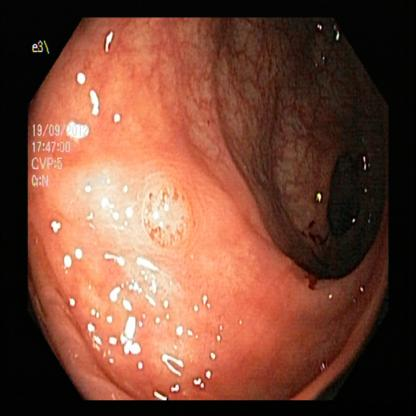Labels: (27, 118, 98, 195)
Polyps: (122, 162, 208, 276)
